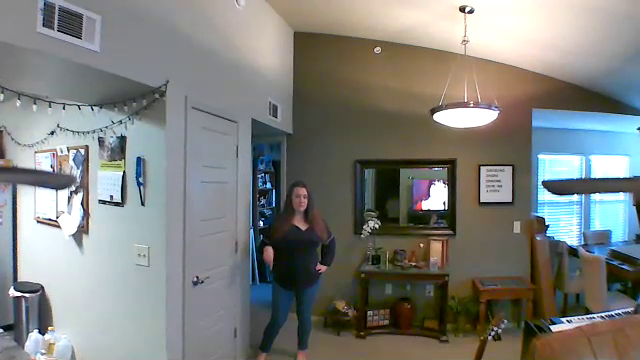down: (258, 241, 277, 270)
